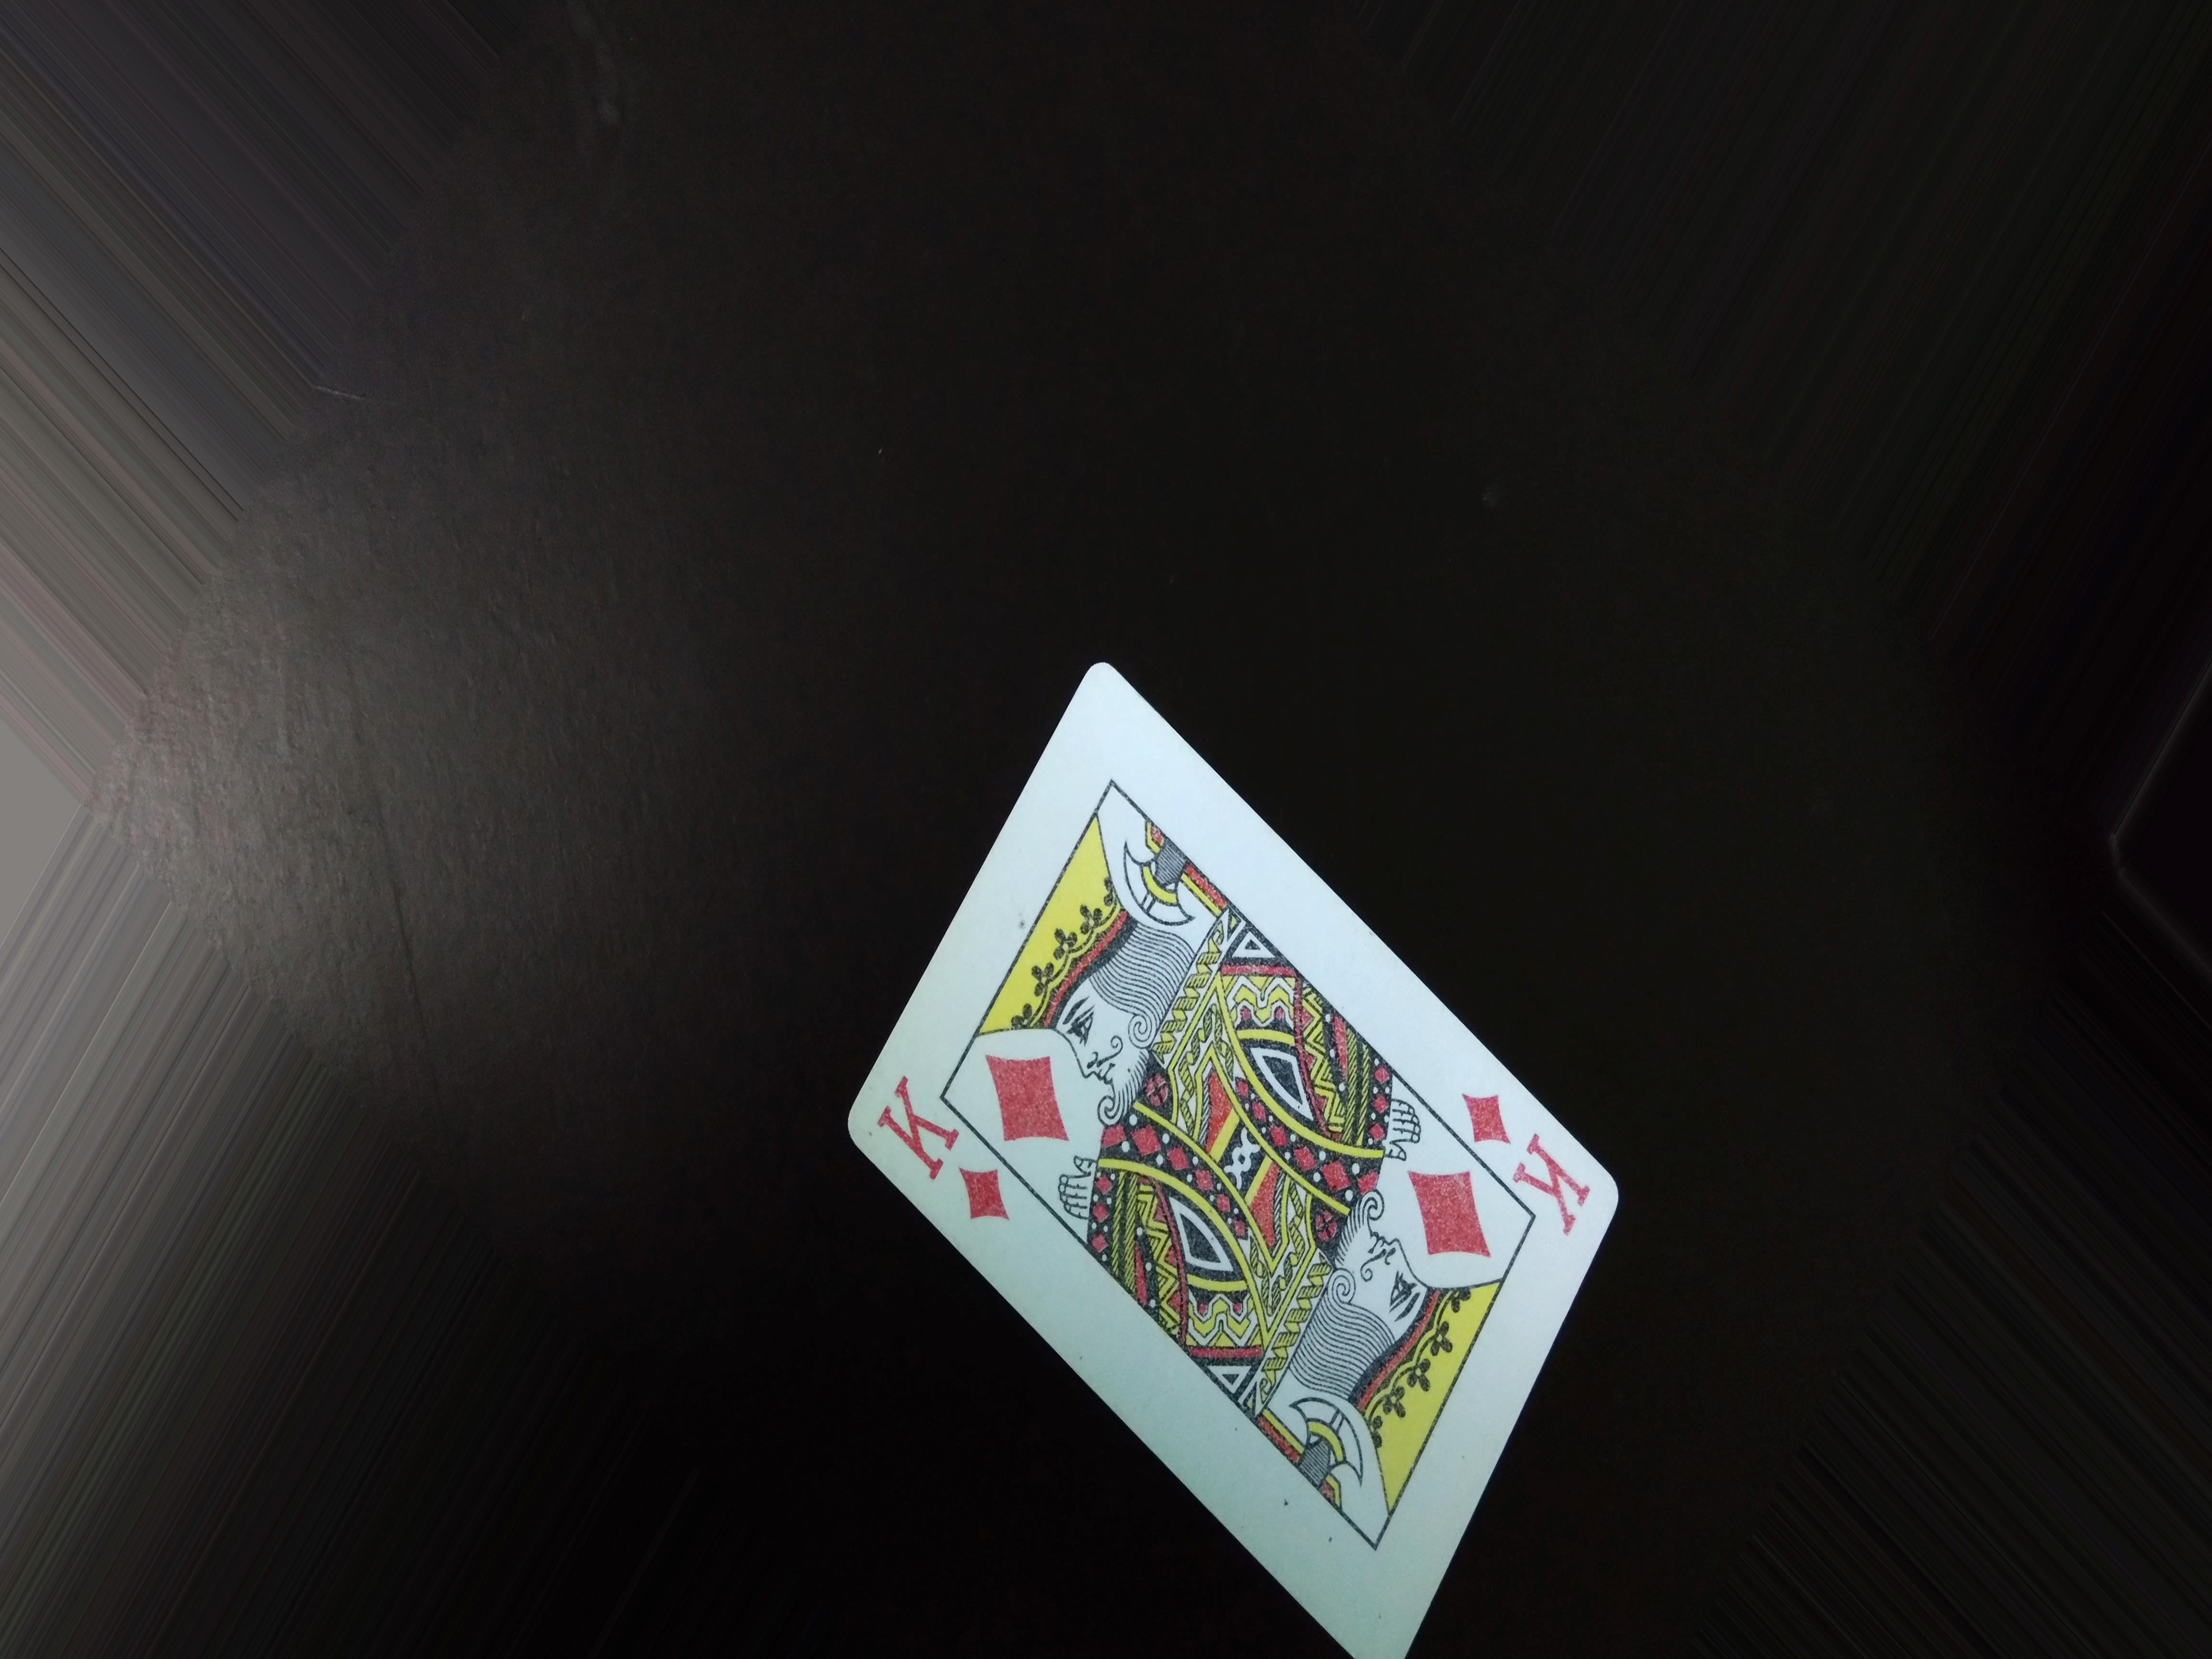KD: (876, 1080, 1012, 1253)
